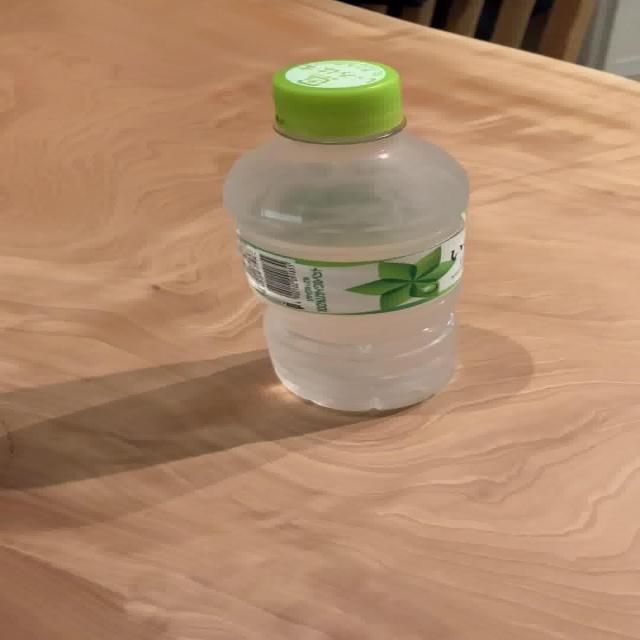good: (222, 56, 474, 417)
